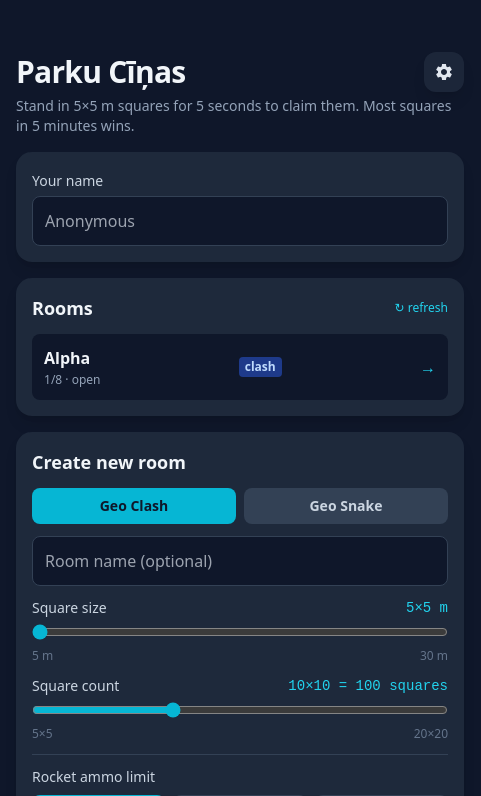
it: joinRoom › sets error and refreshes on no-such-room ack
Click the button "Alpha 1/8 · open clash →". click: (240, 367)
box: left=32, top=334, right=448, bottom=400
(page scrolled)
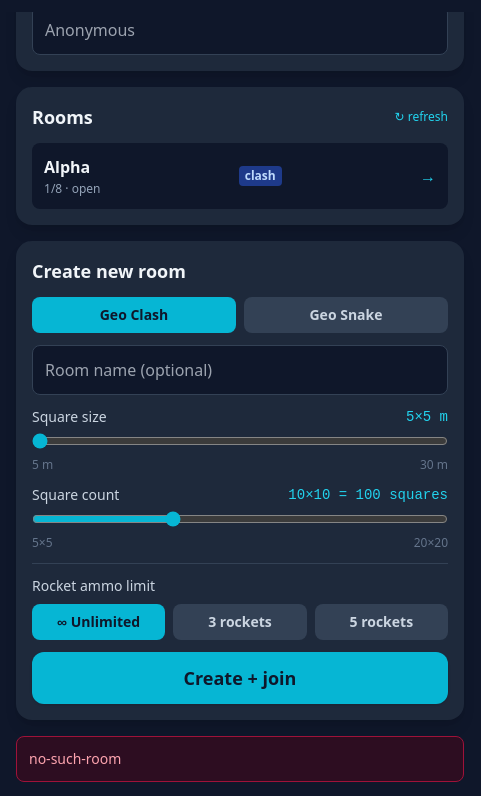
expect the text "no-such-room" is shown: met, box left=16, top=736, right=464, bottom=782
